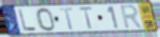1: (107, 5, 120, 30)
L: (17, 9, 38, 32)
O: (35, 7, 57, 32)
R: (119, 4, 145, 31)
T: (59, 7, 75, 31), (78, 6, 94, 30)
